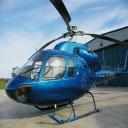helicopter: (3, 2, 128, 127)
